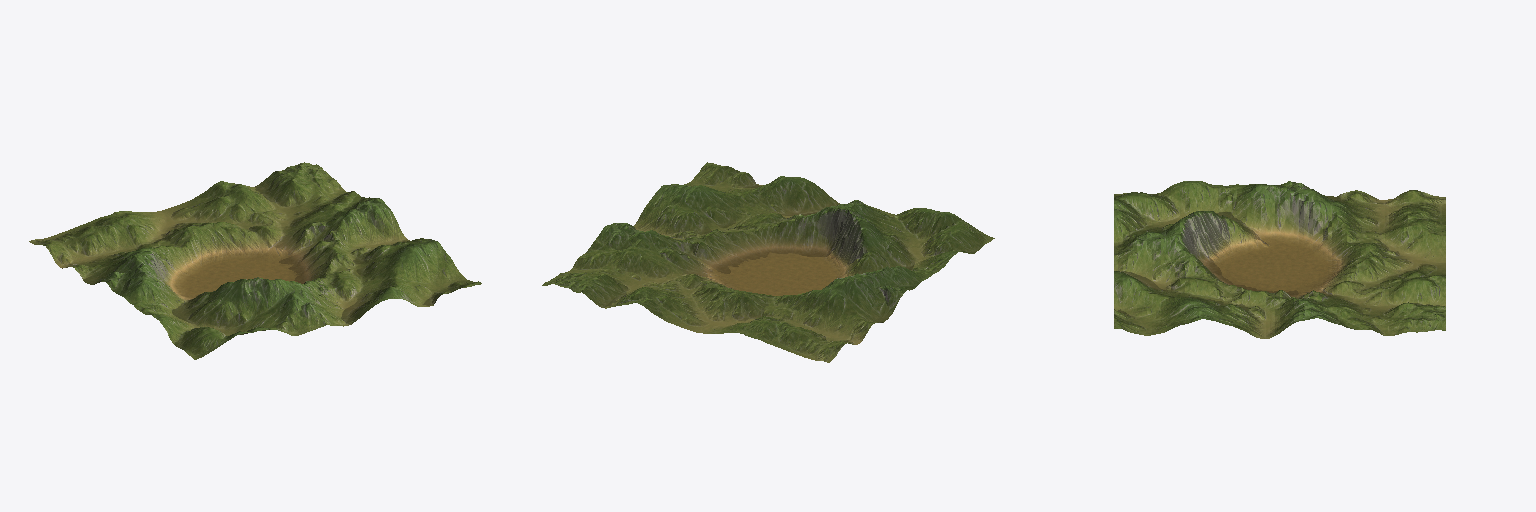
The picture shows the model from 3 angles: view 1: azimuth 30°, elevation 25°; view 2: azimuth 150°, elevation 25°; view 3: azimuth 270°, elevation 25°; orthographic projection.
Parts seen in each view (by area): view 1: TerrainMesh; view 2: TerrainMesh; view 3: TerrainMesh.
Part boxes in pixels (x1,y1,x2,y2): TerrainMesh: (29,162,481,359); TerrainMesh: (542,162,994,362); TerrainMesh: (1114,181,1445,338).
Bounding box in the file's own units: 1 × 0.1333 × 1.
1 materials, 1 textured.